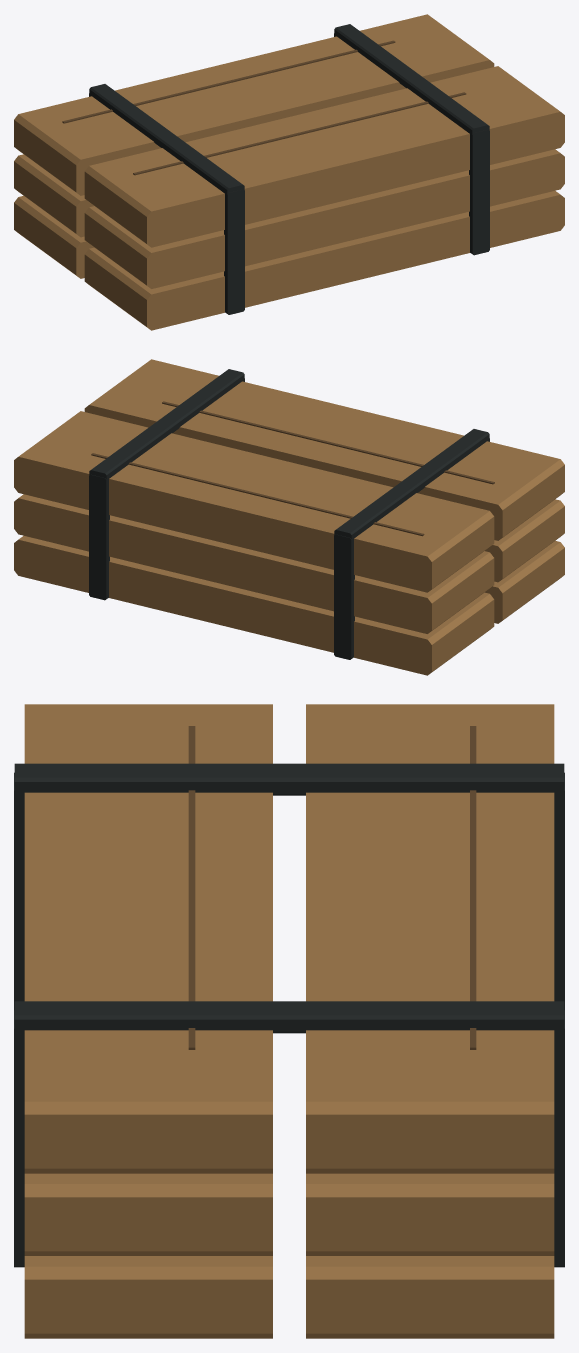
Rendered from Planks.gltf.
The picture shows the model from 3 angles, top to bottom: view 1: azimuth 30°, elevation 25°; view 2: azimuth 150°, elevation 25°; view 3: azimuth 270°, elevation 25°; orthographic projection. The views are drawn at different scales.
Parts seen in each view (by area): view 1: Planks; view 2: Planks; view 3: Planks.
Boxes of the visible parts, x1,y1,x2,y2 form: Planks: [14, 14, 564, 330]; Planks: [14, 359, 564, 675]; Planks: [14, 704, 564, 1338].
Size of the model in its own units: 0.58 by 0.168 by 0.333.
